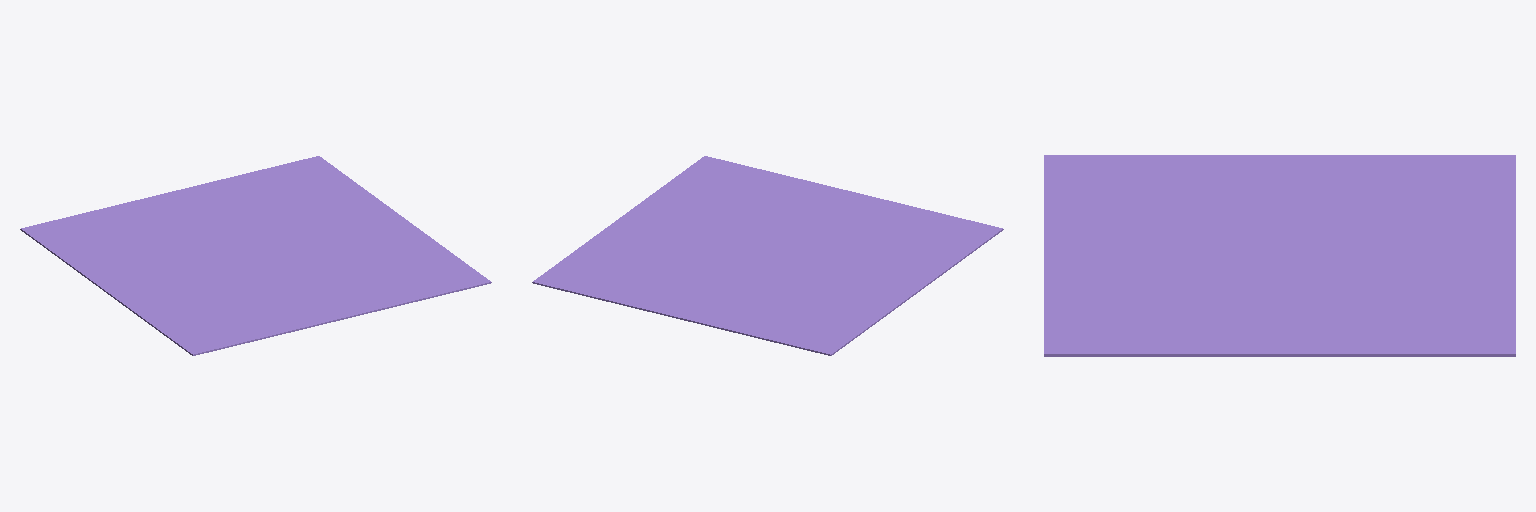
robot.urdf — table:
<?xml version="1.0"?>
<robot name="table"> <!-- Table made of boxes -->
  <link name="table_base">
    <visual>
      <origin xyz="0 0 -0.01"/> <!-- 0.001 to avoid collision with robot-->
      <geometry>
        <box size="2 2 0.01" />
      </geometry>
      <material name="Something">
        <color rgba="0.7 0.6 0.9 1"/>
      </material>
    </visual>
    <collision>
      <origin xyz="0 0 -0.01"/>
      <geometry>
        <box size="2 2 0.01" />
      </geometry>
    </collision>
  </link>
</robot>

--- What the picture shows (computed from the rendered views, not written in the file) ---
3 views of the same robot in one strip: view 1: azimuth 30°, elevation 25°; view 2: azimuth 150°, elevation 25°; view 3: azimuth 270°, elevation 25° (orthographic).
Robot: table — 1 links, 0 joints (none); root link table_base; default pose: every joint at zero.
Links seen in each view (by area): view 1: table_base; view 2: table_base; view 3: table_base.
Boxes of the visible links, x1=… form: table_base: x1=20, y1=156, x2=491, y2=355; table_base: x1=532, y1=156, x2=1003, y2=355; table_base: x1=1044, y1=155, x2=1515, y2=356.
Size in the robot's own frame: 2 by 2 by 0.01 metres.
Geometry: primitives only (box / cylinder / sphere), no mesh files.